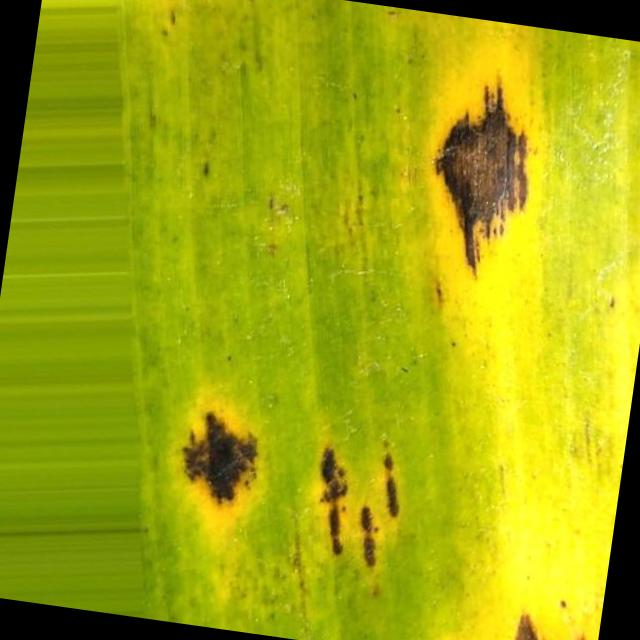Banana_Yellow_Sigatoka: (149, 358, 435, 614), (386, 64, 576, 278), (492, 554, 608, 640)
